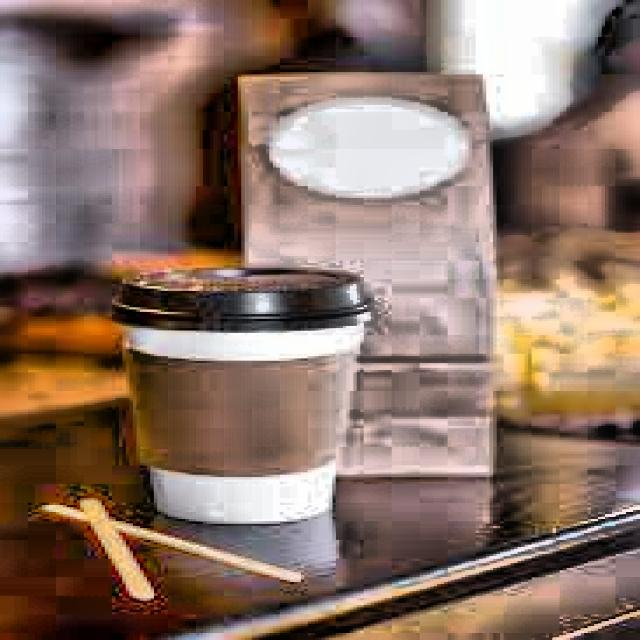Cup: (84, 294, 392, 526)
